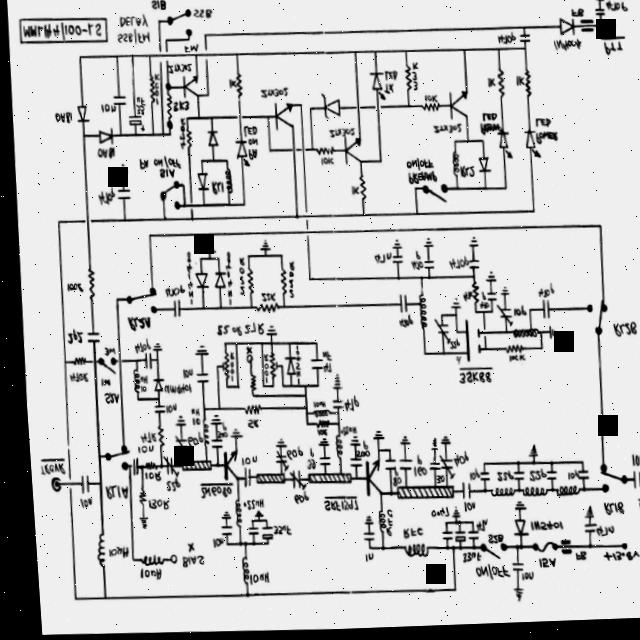capacitor: (423, 319, 449, 348), (488, 303, 513, 330), (166, 431, 186, 459), (430, 454, 449, 482), (279, 469, 299, 495), (155, 454, 173, 478), (107, 89, 127, 110), (161, 298, 179, 321), (78, 325, 97, 346), (374, 455, 392, 477), (389, 292, 404, 318), (70, 469, 84, 496), (449, 483, 466, 505), (532, 301, 549, 323), (122, 111, 144, 128), (187, 368, 204, 389), (110, 186, 131, 203), (266, 450, 282, 472), (134, 346, 148, 371), (303, 355, 320, 375), (389, 458, 407, 475), (622, 474, 635, 497), (145, 401, 162, 418), (477, 289, 494, 306), (418, 459, 433, 478), (233, 465, 244, 490), (443, 531, 460, 547), (339, 455, 356, 471), (308, 454, 325, 470), (323, 396, 340, 412), (251, 523, 266, 541), (350, 531, 369, 545), (210, 522, 225, 539), (461, 258, 476, 275), (384, 253, 401, 268), (201, 438, 219, 452), (566, 470, 582, 485), (590, 9, 607, 23), (534, 471, 551, 485), (469, 470, 483, 487), (573, 525, 591, 538), (416, 258, 430, 274), (500, 563, 517, 576), (123, 455, 133, 477), (515, 35, 533, 47), (430, 530, 445, 544), (503, 471, 518, 485), (458, 531, 472, 543), (238, 526, 251, 538)
diode: (314, 92, 343, 123), (364, 71, 387, 104), (228, 137, 250, 168), (491, 129, 511, 162), (518, 130, 539, 161), (199, 124, 219, 154), (554, 16, 575, 42), (275, 354, 295, 381), (68, 102, 90, 124), (92, 125, 113, 148), (207, 267, 223, 294), (187, 269, 205, 292), (191, 170, 207, 195), (503, 520, 522, 541), (144, 373, 159, 395), (473, 158, 488, 176)
ground: (186, 340, 205, 363), (442, 294, 459, 314), (518, 442, 534, 463), (430, 433, 447, 452), (165, 410, 182, 429), (459, 236, 476, 255), (502, 587, 517, 608), (323, 372, 336, 396), (420, 434, 434, 456), (251, 237, 268, 255), (199, 413, 218, 429), (364, 426, 379, 446), (478, 268, 493, 288), (340, 433, 357, 450), (220, 426, 238, 442), (389, 433, 404, 452), (540, 325, 553, 346), (197, 238, 212, 256), (491, 285, 505, 304), (415, 237, 431, 253), (265, 436, 282, 451), (258, 323, 273, 340), (111, 159, 125, 177), (129, 513, 141, 533), (573, 508, 588, 524), (440, 506, 455, 522), (503, 499, 518, 515), (308, 436, 325, 450), (385, 237, 398, 254), (353, 514, 366, 530), (144, 340, 158, 354), (211, 509, 224, 524), (244, 511, 257, 519), (591, 0, 604, 7)
inductor: (84, 525, 101, 572), (390, 541, 423, 564), (190, 413, 207, 452), (129, 552, 158, 571), (410, 294, 423, 335), (480, 486, 508, 505), (545, 485, 574, 503), (223, 496, 236, 533), (229, 554, 243, 588), (218, 165, 233, 196), (512, 486, 541, 502), (324, 432, 338, 464), (123, 366, 137, 396), (505, 329, 535, 343), (446, 152, 458, 181), (367, 510, 379, 538), (304, 409, 325, 421), (18, 230, 19, 234)
node: (233, 540, 240, 550), (206, 461, 214, 469), (233, 592, 241, 600), (504, 546, 511, 555), (577, 546, 584, 554), (228, 540, 235, 548), (572, 489, 579, 497), (509, 546, 515, 555), (448, 546, 454, 555), (371, 545, 377, 554), (370, 490, 376, 499), (474, 488, 480, 497), (462, 546, 468, 554), (435, 546, 441, 554), (242, 540, 248, 548), (380, 492, 386, 499), (150, 463, 156, 470), (442, 545, 447, 553), (507, 463, 513, 469), (541, 462, 546, 469), (445, 521, 449, 528), (523, 462, 527, 469), (448, 522, 452, 528)
resistor: (77, 261, 94, 303), (397, 61, 415, 97), (490, 69, 506, 107), (351, 170, 367, 206), (248, 297, 275, 318), (518, 67, 532, 106), (142, 72, 157, 108), (258, 349, 274, 382), (229, 67, 244, 101), (417, 99, 440, 120), (233, 402, 259, 420), (461, 280, 476, 311), (270, 267, 285, 298), (238, 265, 253, 296), (495, 344, 522, 361), (311, 144, 335, 161), (146, 422, 161, 449), (213, 352, 226, 383), (160, 90, 173, 121), (238, 372, 254, 396), (180, 124, 190, 154), (129, 482, 139, 510), (306, 419, 324, 434), (64, 354, 81, 368), (136, 458, 152, 472)
switch: (117, 283, 159, 318), (587, 463, 623, 501), (577, 297, 607, 342), (164, 6, 195, 45), (151, 177, 179, 214), (94, 441, 125, 473), (468, 539, 503, 563), (414, 183, 446, 207), (90, 352, 111, 375)
transistor: (442, 84, 472, 131), (353, 457, 379, 503), (337, 132, 366, 172), (267, 98, 296, 134), (211, 447, 237, 484), (176, 69, 203, 103)
